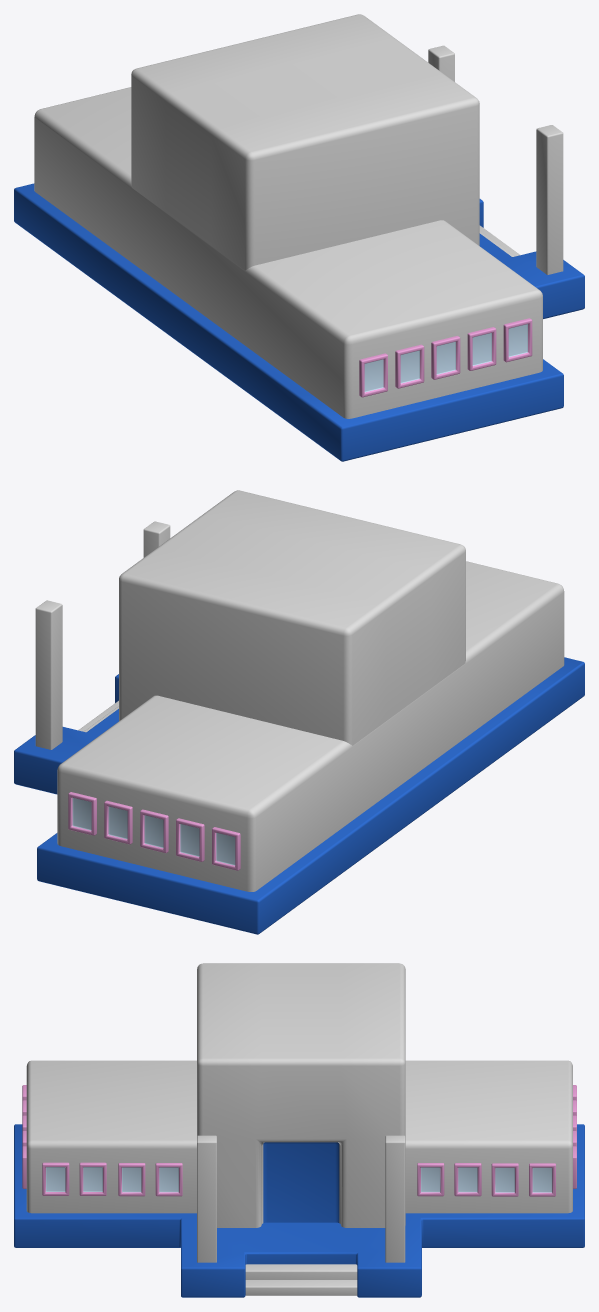
The model's file is PIP_nursing-home-3d-5.glb.
3 views of the same model, one above another, from view 1: azimuth 30°, elevation 25°; view 2: azimuth 150°, elevation 25°; view 3: azimuth 270°, elevation 25° (orthographic). The views are drawn at different scales.
Parts seen in each view (by area): view 1: Cube.124, Cube.125, Cube.127, Cube.136, Cube.132, Cube.131; view 2: Cube.124, Cube.125, Cube.127, Cube.137, Cube.131, Cube.132; view 3: Cube.124, Cube.125, Cube.127, Cube.131, Cube.132, Cube.130, Cube.129, Cube.135, Cube.138, Cube.133, Cube.139, Cube.141 (+4 smaller).
Boxes of the visible parts, x1=… form: Cube.124: x1=131, y1=14, x2=479, y2=270; Cube.125: x1=34, y1=87, x2=542, y2=418; Cube.127: x1=14, y1=183, x2=584, y2=461; Cube.136: x1=359, y1=318, x2=532, y2=397; Cube.132: x1=536, y1=125, x2=563, y2=274; Cube.131: x1=428, y1=45, x2=454, y2=81; Cube.124: x1=119, y1=490, x2=465, y2=745; Cube.125: x1=57, y1=561, x2=564, y2=891; Cube.127: x1=14, y1=657, x2=584, y2=934; Cube.137: x1=68, y1=792, x2=240, y2=870; Cube.131: x1=35, y1=600, x2=62, y2=749; Cube.132: x1=143, y1=521, x2=170, y2=557; Cube.124: x1=197, y1=963, x2=405, y2=1227; Cube.125: x1=26, y1=1060, x2=572, y2=1213; Cube.127: x1=14, y1=1124, x2=584, y2=1297; Cube.131: x1=385, y1=1135, x2=405, y2=1262; Cube.132: x1=197, y1=1135, x2=216, y2=1262; Cube.130: x1=245, y1=1280, x2=357, y2=1295; Cube.129: x1=245, y1=1264, x2=357, y2=1279; Cube.135: x1=454, y1=1163, x2=481, y2=1196; Cube.138: x1=118, y1=1163, x2=145, y2=1196; Cube.133: x1=155, y1=1163, x2=182, y2=1196; Cube.139: x1=42, y1=1162, x2=69, y2=1195; Cube.141: x1=491, y1=1163, x2=518, y2=1196.
Bounding box in the file's own units: 0.8038 × 0.5128 × 1.34.
